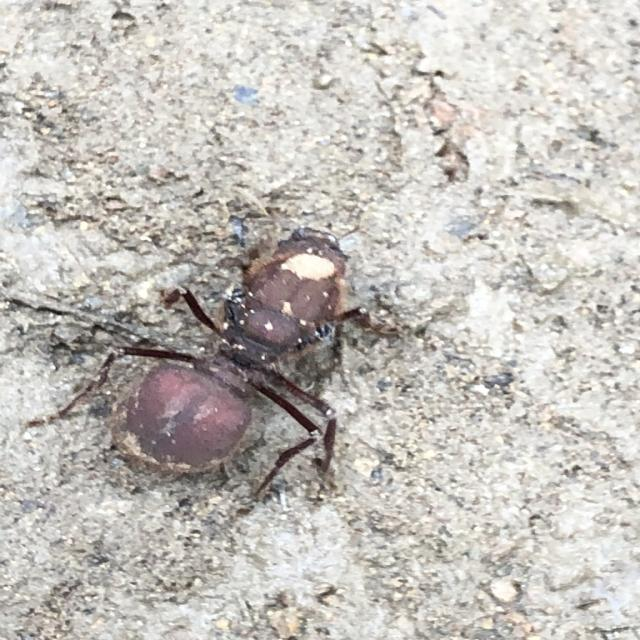Alive-Female-Dealate: (1, 224, 400, 500)
